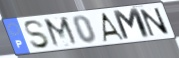0: (71, 14, 98, 45)
A: (102, 11, 126, 43)
M: (111, 7, 152, 42), (42, 15, 81, 49)
N: (138, 7, 172, 38)
S: (23, 19, 52, 50)
